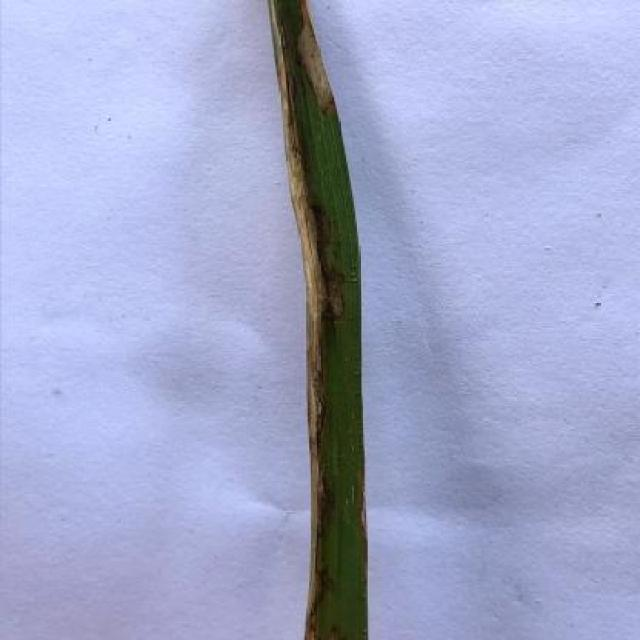Brown_Spot: (253, 0, 378, 640)
